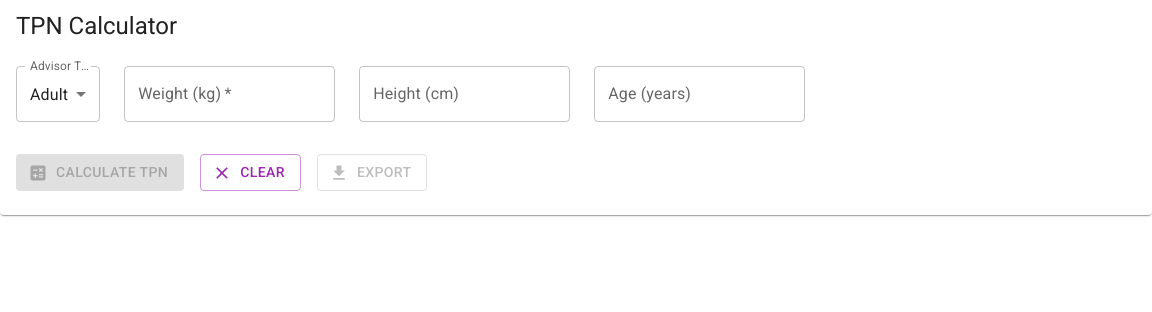
Test: TPNCalculator Component › should handle advisor type change
The image size is (1152, 312).
Press the mouse on the dropdown named "Advisor Type" at (49, 94), box [30,85,68,104]
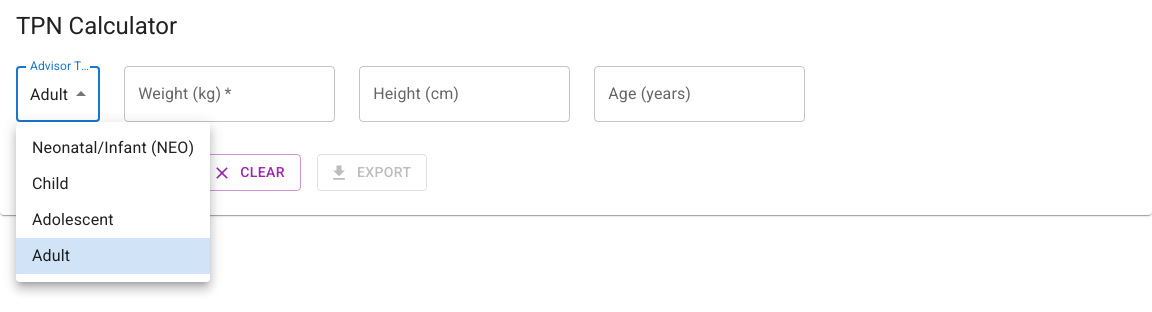
Click the option "Neonatal/Infant (NEO)" at (113, 148), box [32,138,194,157]
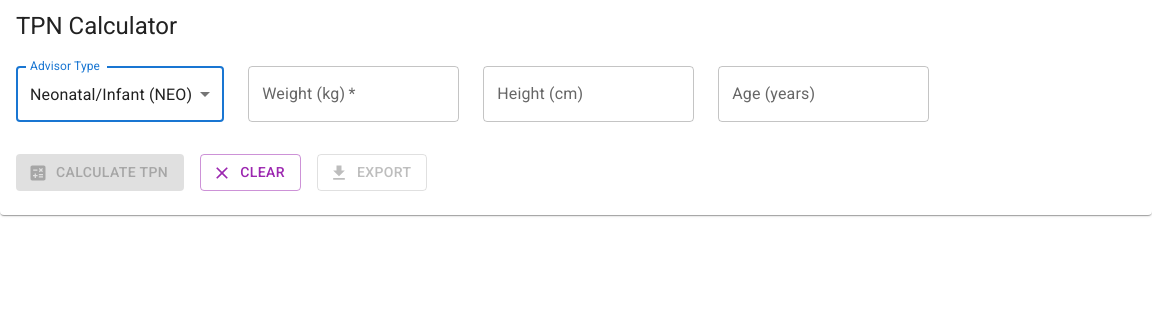
expect the element showing "NEO" is shown: met, box [16,66,224,122]
